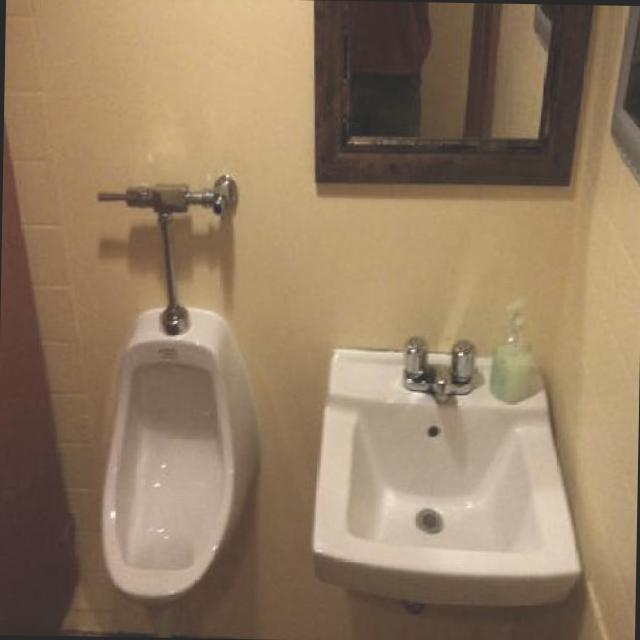Person: (352, 0, 434, 134)
